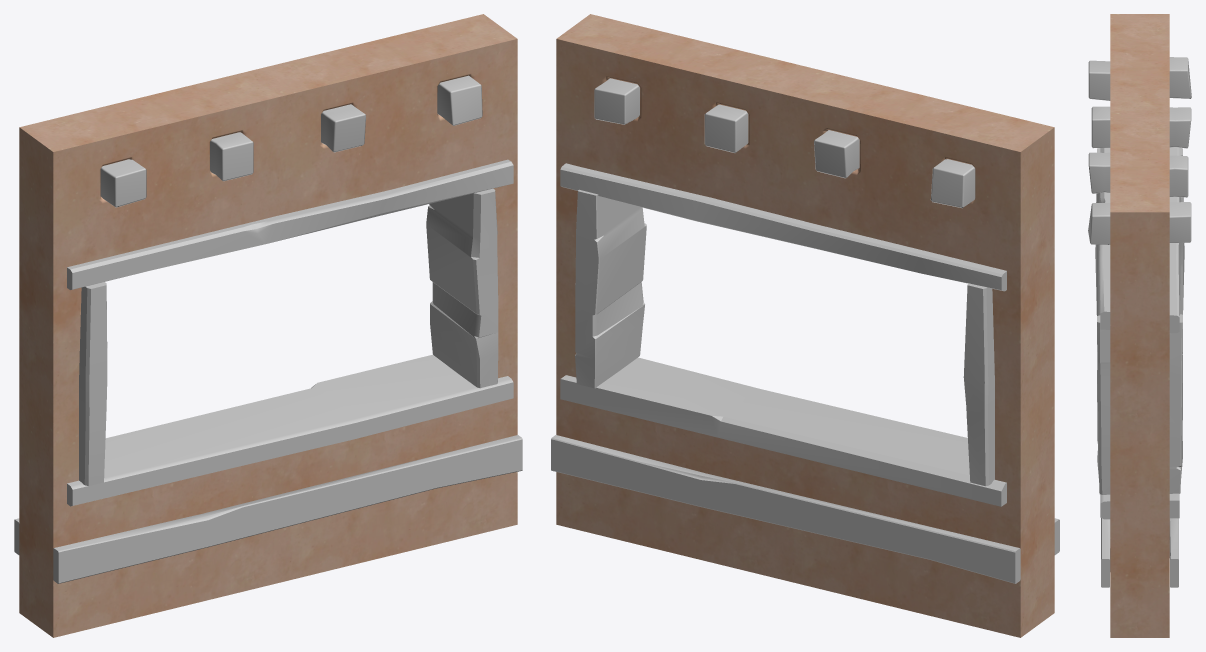
The picture shows the model from 3 angles, left to right: view 1: azimuth 30°, elevation 25°; view 2: azimuth 150°, elevation 25°; view 3: azimuth 270°, elevation 25°; orthographic projection. The views are drawn at different scales.
Parts seen in each view (by area): view 1: SM_BB_T4_Wall_Windowframe_Double_LOD0; view 2: SM_BB_T4_Wall_Windowframe_Double_LOD0; view 3: SM_BB_T4_Wall_Windowframe_Double_LOD0.
Part boxes in pixels (bbox=[...]): SM_BB_T4_Wall_Windowframe_Double_LOD0: bbox=[14, 14, 522, 637]; SM_BB_T4_Wall_Windowframe_Double_LOD0: bbox=[551, 14, 1059, 637]; SM_BB_T4_Wall_Windowframe_Double_LOD0: bbox=[1088, 14, 1191, 637].
Size of the model in its own units: 3 by 3 by 0.6636.
